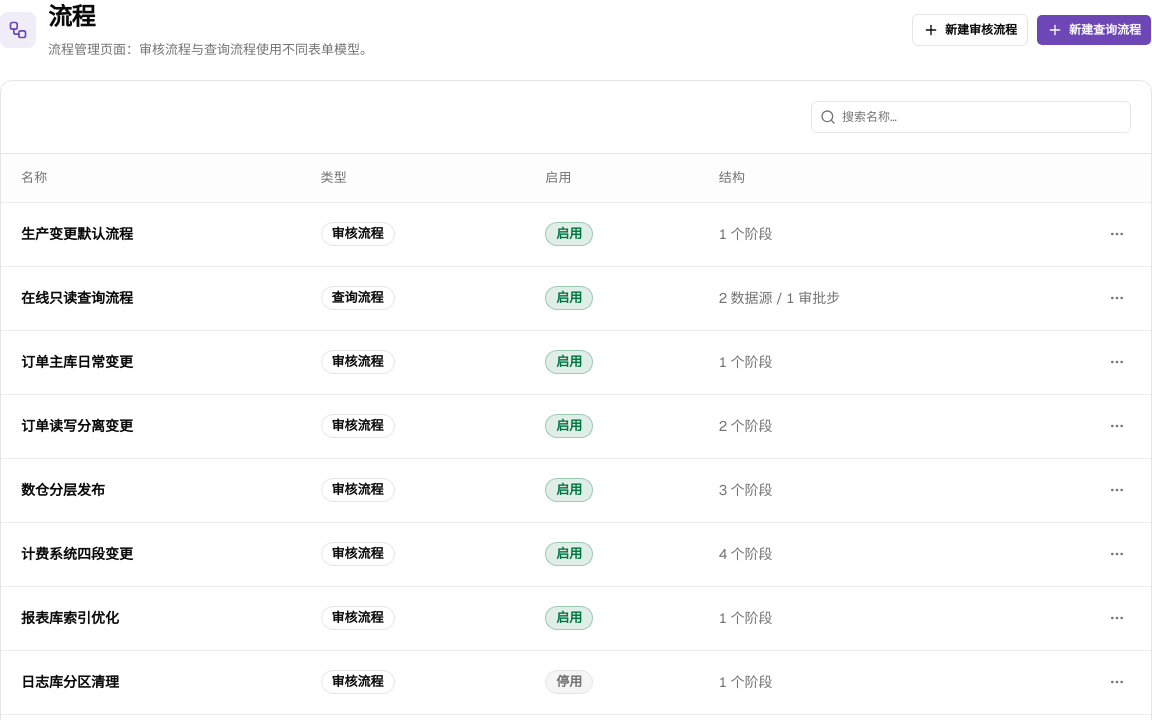
it: gate: 流程双表单符合新模型（§3） › keeps SQL, rule sets and executors OUT of the query-flow form
The width and height of the screenshot is (1152, 720).
Step 1. Click the button with test id "admin-flows-create-query" → [1094, 30], box x1=1036 y1=14 x2=1151 y2=46
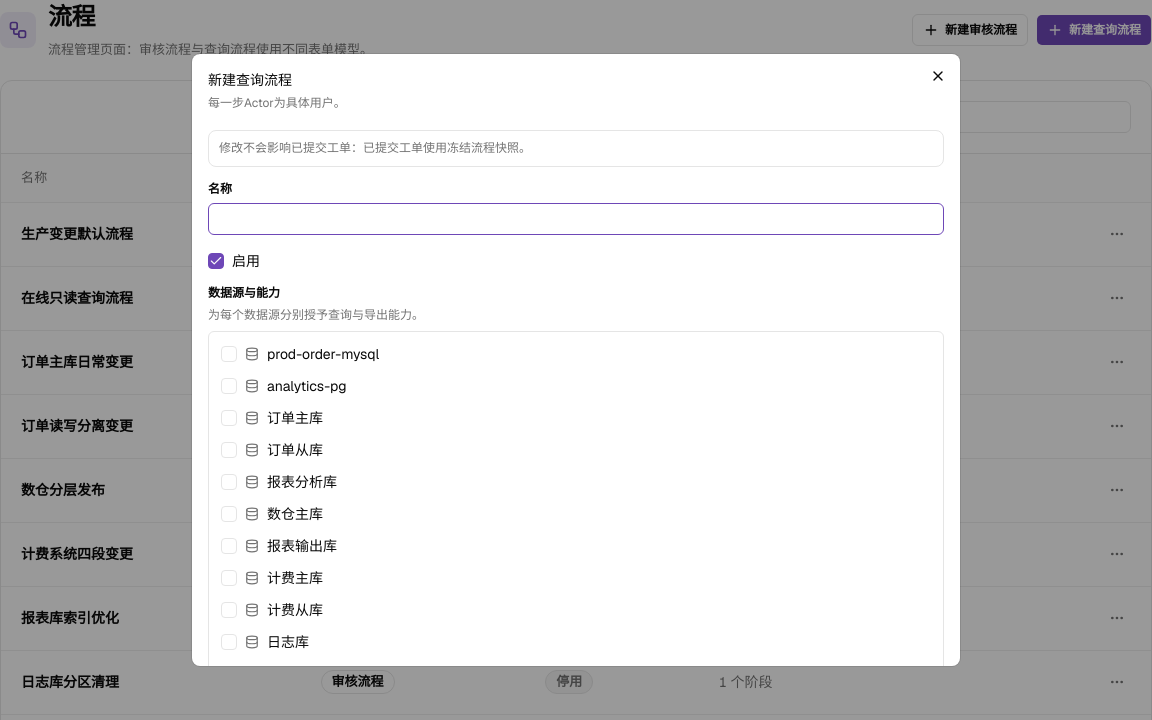
Expected: the dialog does not show "SQL"
Now the checkbox with test id "flow-query-ds-" is shown, box x1=221 y1=346 x2=237 y2=362
Now the dialog shows "不会影响已提交工单", box x1=219 y1=140 x2=531 y2=156
